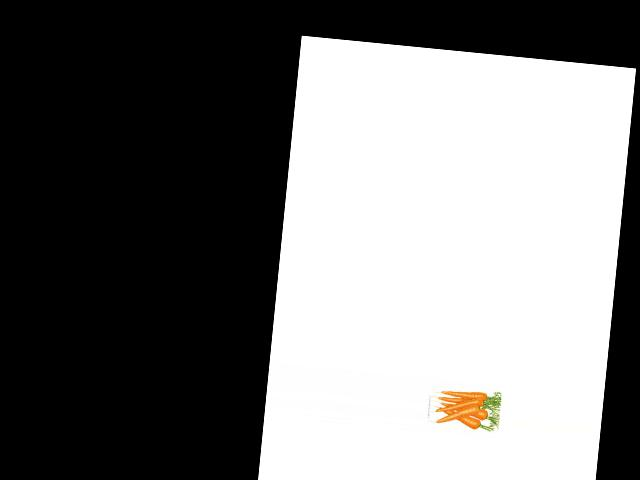carrot: (430, 393, 484, 411)
